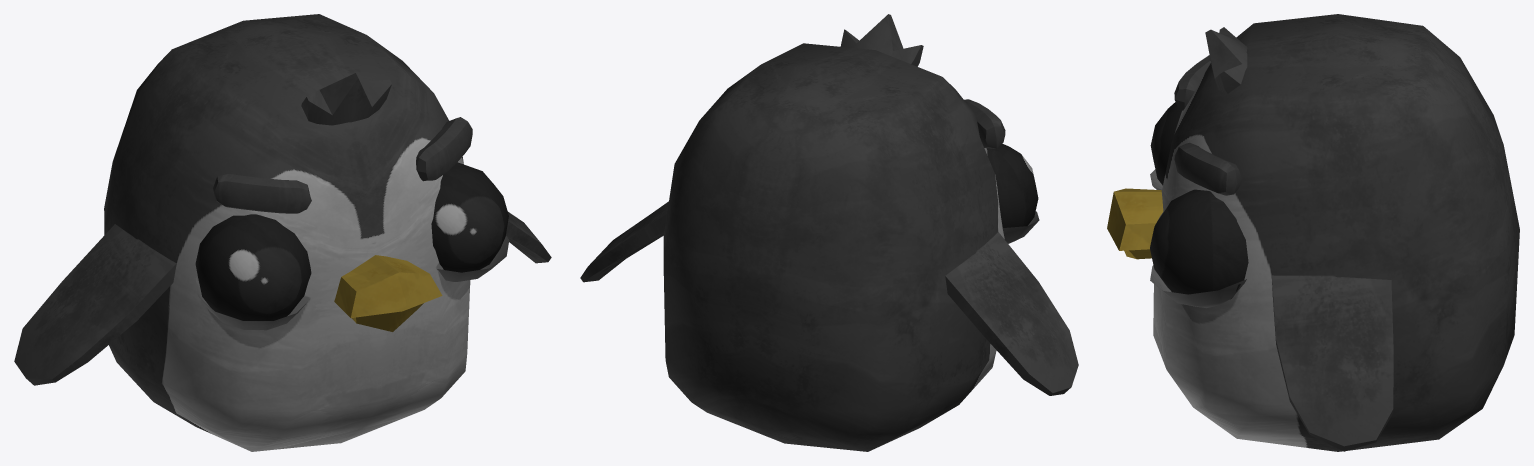
The model's file is penguin.glb.
3 renders of one model, left to right at view 1: azimuth 30°, elevation 25°; view 2: azimuth 150°, elevation 25°; view 3: azimuth 270°, elevation 25°, orthographic. The views are drawn at different scales.
Visible parts, largest first — view 1: Penguin_Cube.106; view 2: Penguin_Cube.106; view 3: Penguin_Cube.106.
Boxes of the visible parts, x1=… form: Penguin_Cube.106: x1=14, y1=14, x2=551, y2=451; Penguin_Cube.106: x1=580, y1=14, x2=1078, y2=451; Penguin_Cube.106: x1=1107, y1=14, x2=1519, y2=451.
Bounding box in the file's own units: 2.27 × 1.64 × 1.55.
1 material, 1 textured.
